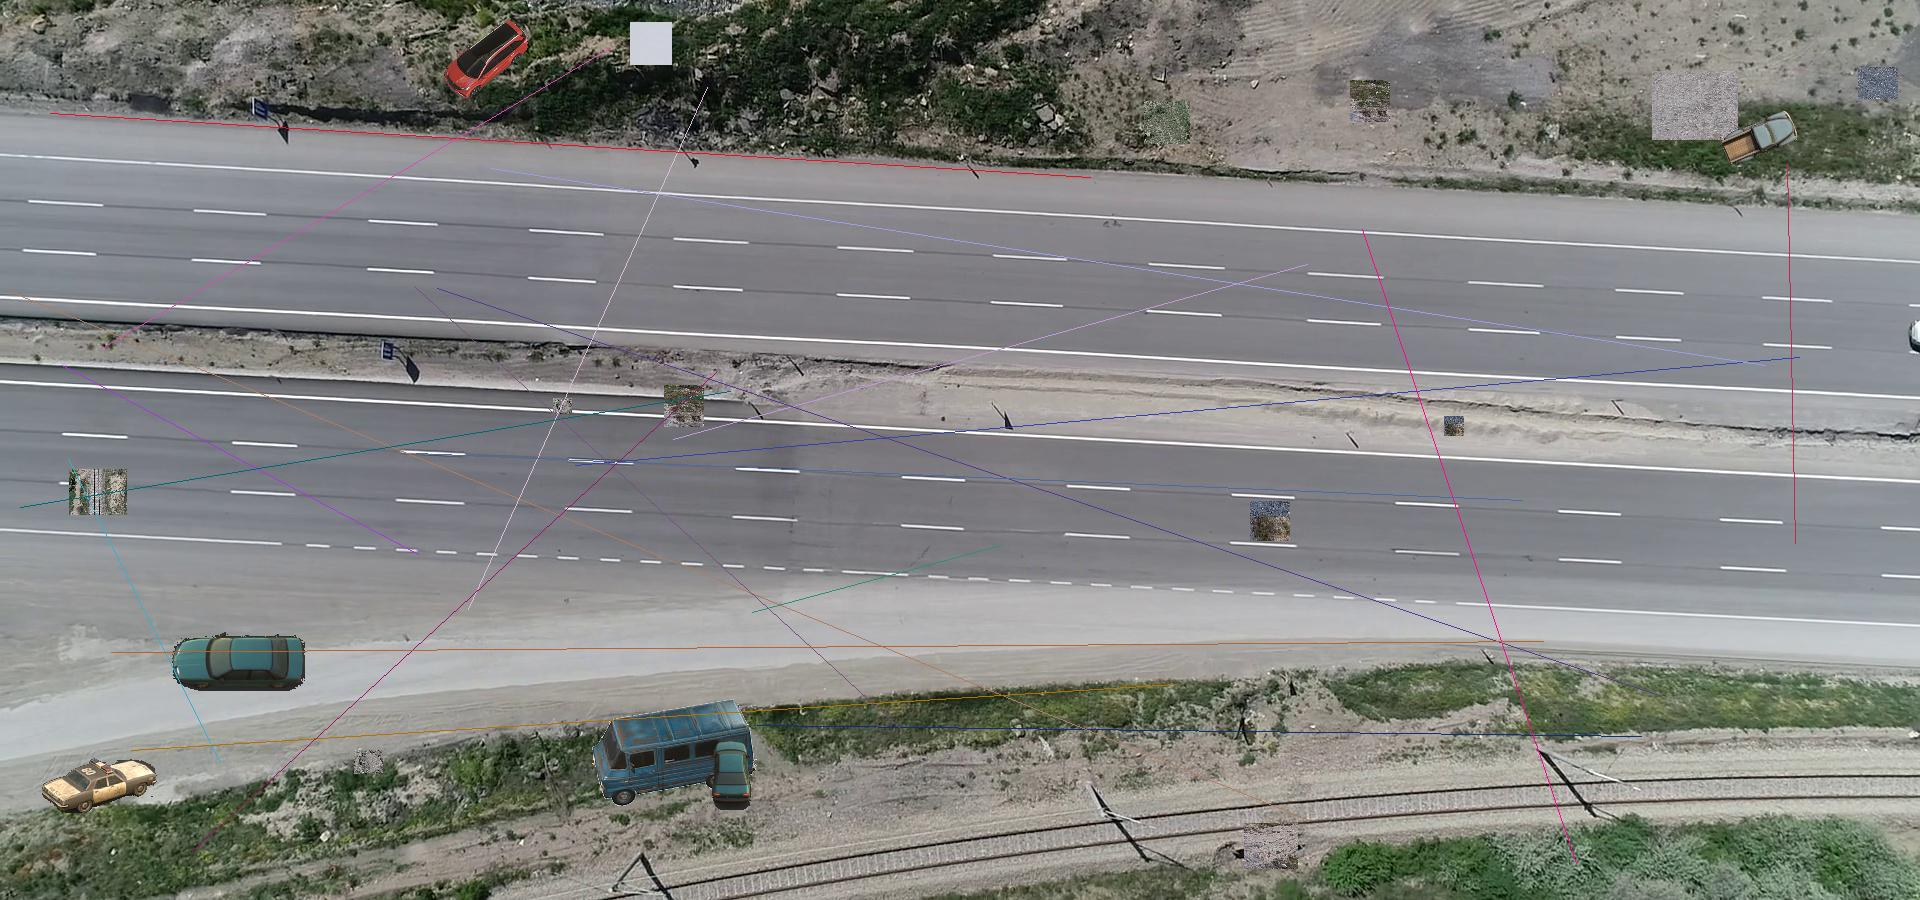arac: (587, 699, 768, 809), (171, 632, 312, 691), (432, 21, 529, 99), (42, 754, 162, 813), (1720, 107, 1801, 165), (707, 740, 754, 811)
